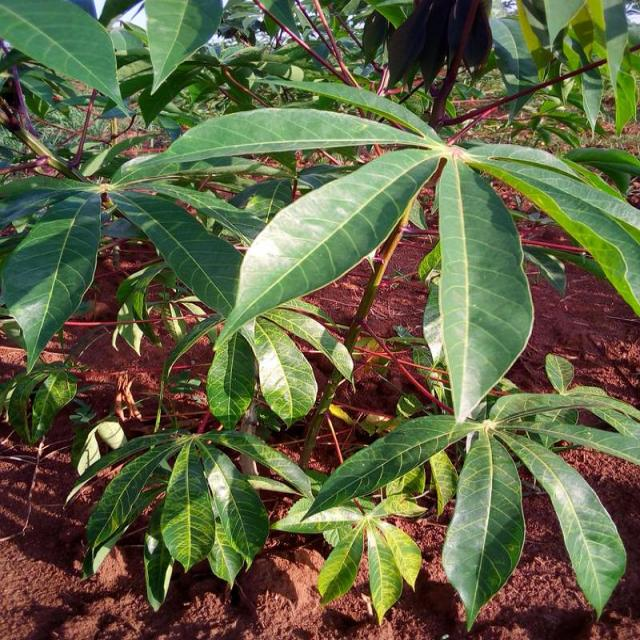cassava leaf: (438, 150, 536, 424), (2, 177, 102, 374), (442, 428, 527, 631), (1, 0, 132, 118)
